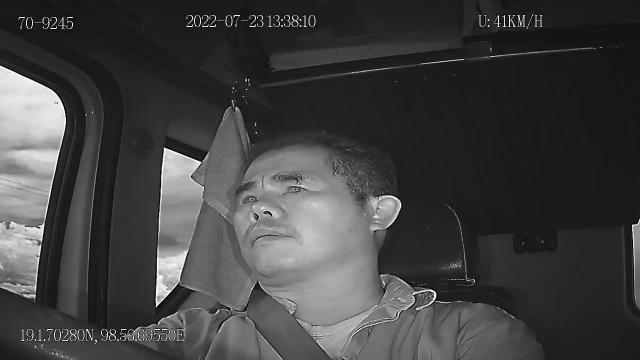SafeDriving: (274, 172, 318, 200)
Seatbelt: (246, 288, 334, 360)
